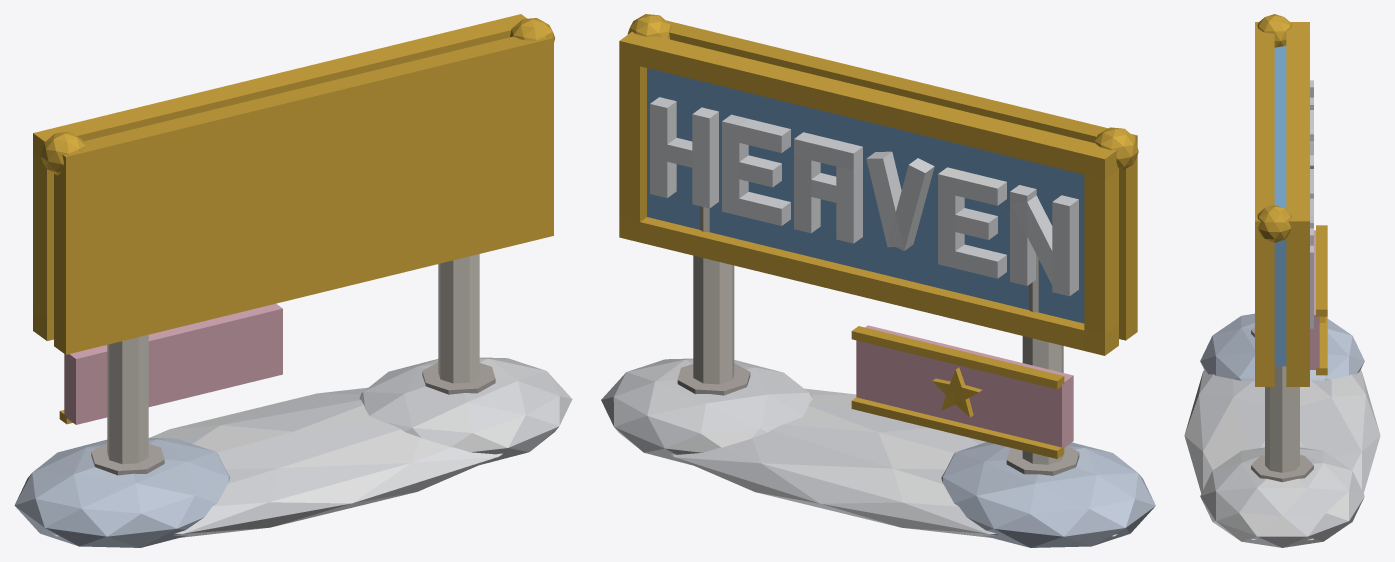
The model's file is Decor_CloudTemple_HeavenSign.fbx.
3 views of the same model, side by side, from view 1: azimuth 30°, elevation 25°; view 2: azimuth 150°, elevation 25°; view 3: azimuth 270°, elevation 25° (orthographic). The views are drawn at different scales.
Visible parts, largest first — view 1: HeavenSign_Body; view 2: HeavenSign_Body; view 3: HeavenSign_Body.
Boxes of the visible parts, left/top/right/bottom form: HeavenSign_Body: left=14, top=14, right=572, bottom=547; HeavenSign_Body: left=601, top=14, right=1155, bottom=547; HeavenSign_Body: left=1184, top=14, right=1380, bottom=547.
Size of the model in its own units: 13 by 9.8 by 5.
